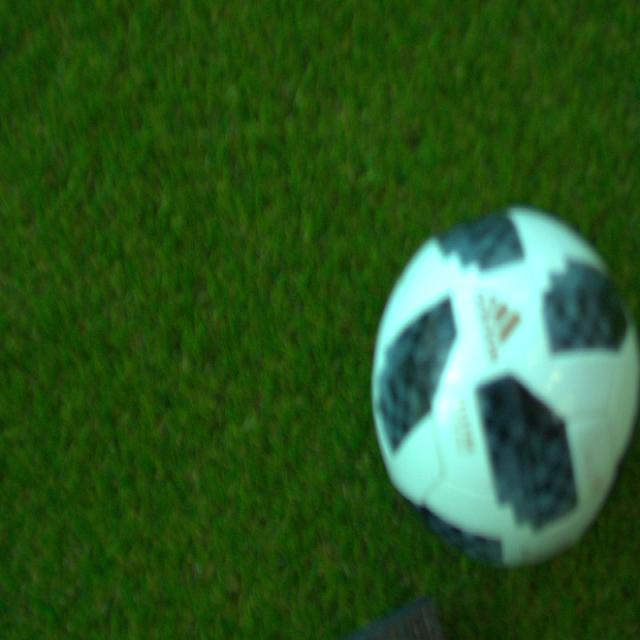ball: (372, 209, 640, 566)
